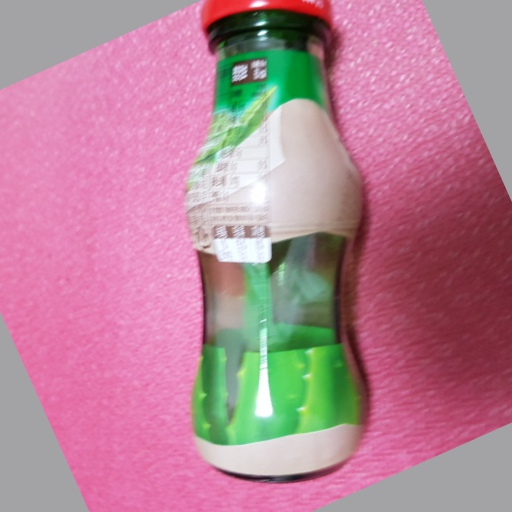Glass_4: (175, 1, 375, 485)
